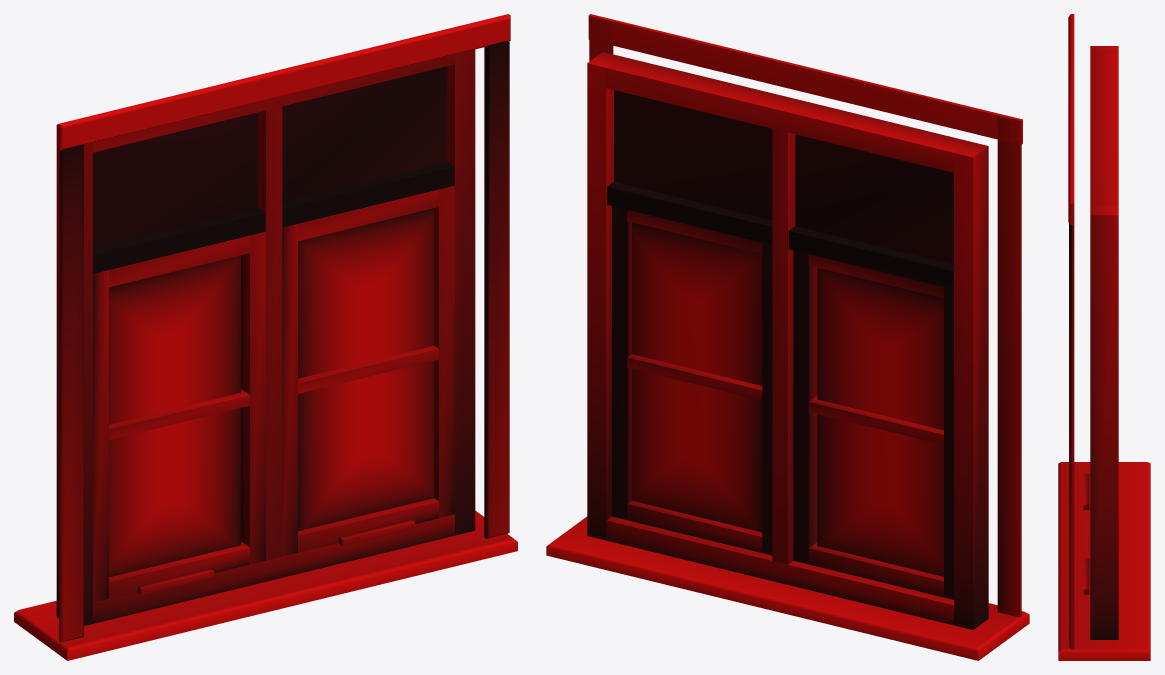
Rendered from CI_Shell_Window_Casement.glb.
3 renders of one model, left to right at view 1: azimuth 30°, elevation 25°; view 2: azimuth 150°, elevation 25°; view 3: azimuth 270°, elevation 25°, orthographic. The views are drawn at different scales.
Visible parts, largest first — view 1: CI_Shell_Window_Casement; view 2: CI_Shell_Window_Casement; view 3: CI_Shell_Window_Casement.
Boxes of the visible parts, left/top/right/bottom form: CI_Shell_Window_Casement: left=14, top=14, right=517, bottom=660; CI_Shell_Window_Casement: left=546, top=14, right=1029, bottom=660; CI_Shell_Window_Casement: left=1058, top=14, right=1150, bottom=660.
Size of the model in its own units: 1.12 by 1.26 by 0.23.
